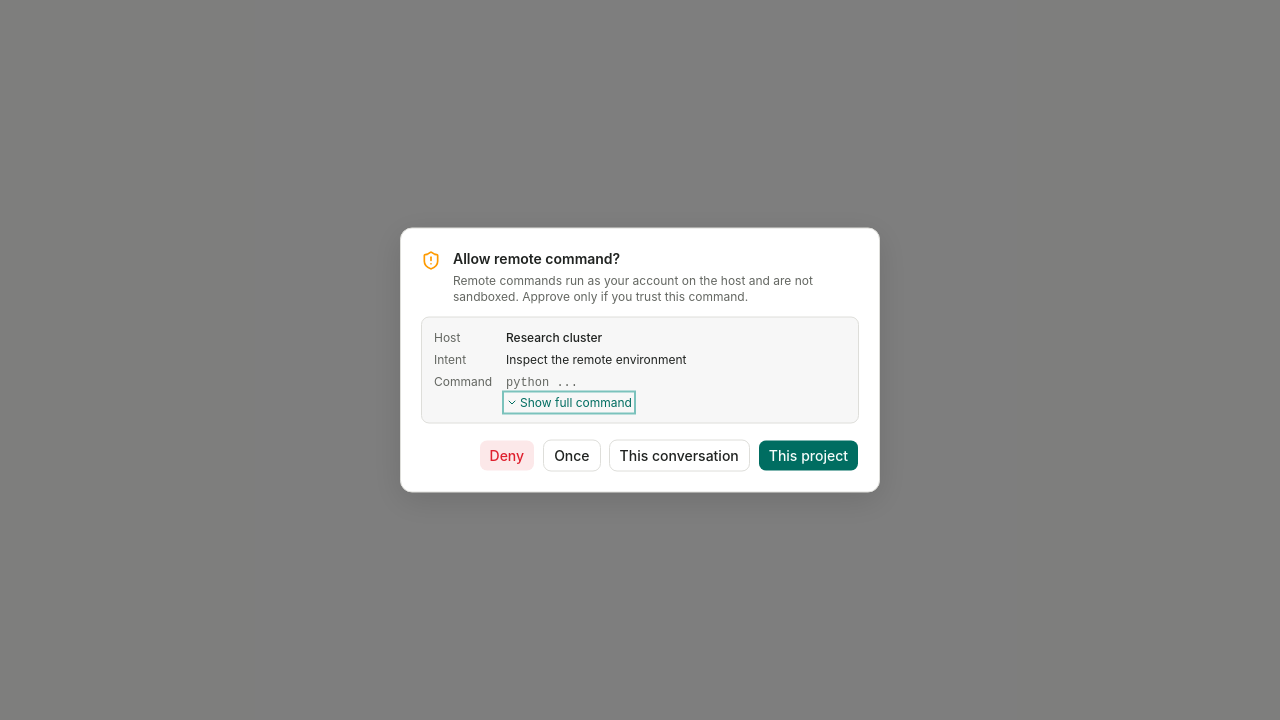
Test: ComputeApprovalDialog › shows the full command without changing approval state
Click the button "Show full command" at [569, 402], box [506,394,632,410]
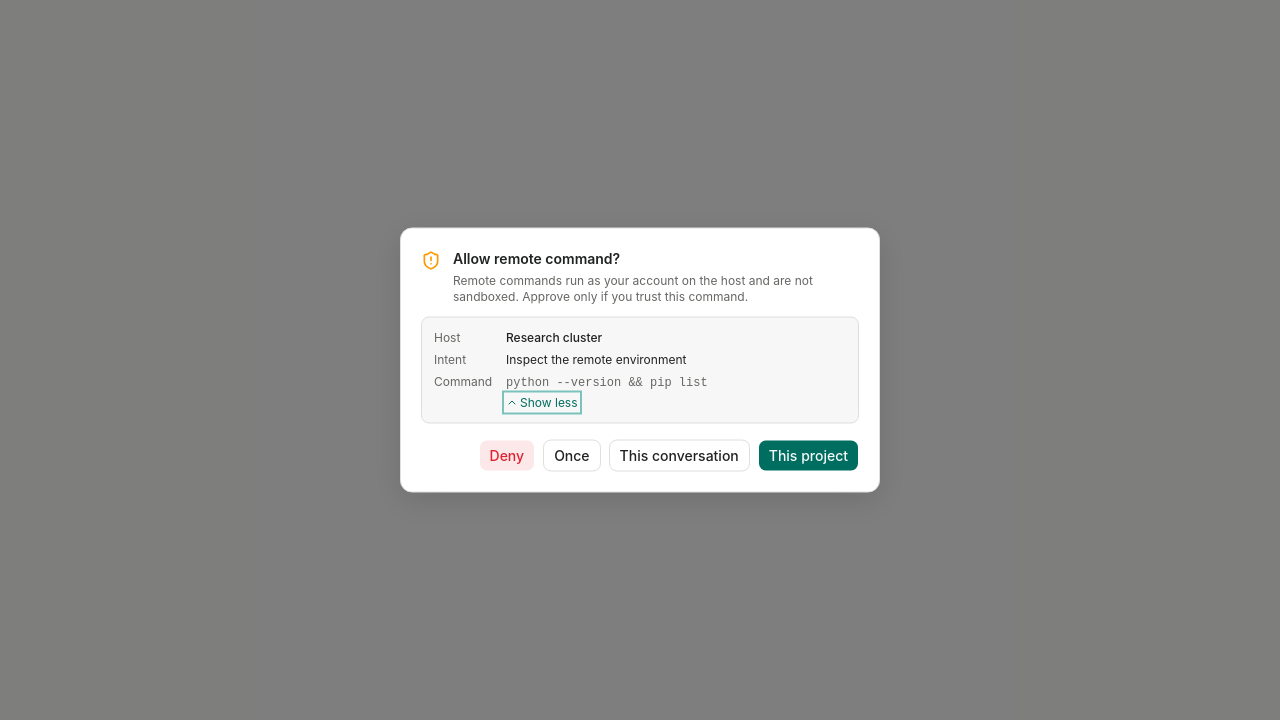
Check: the text "python --version && pip list" is shown, box [506,376,708,390]
